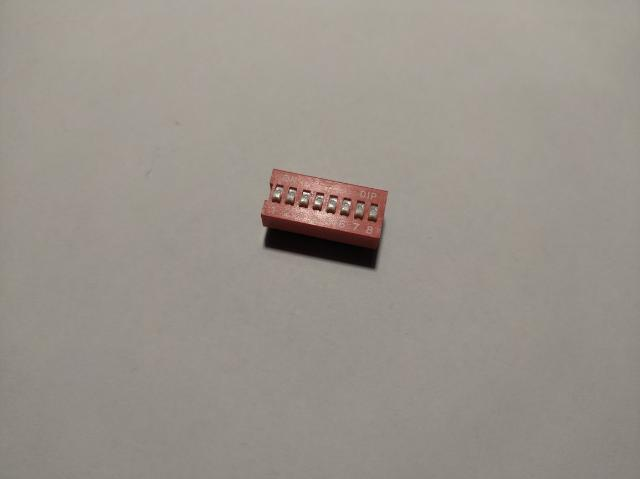dip_switch: (262, 168, 388, 252)
